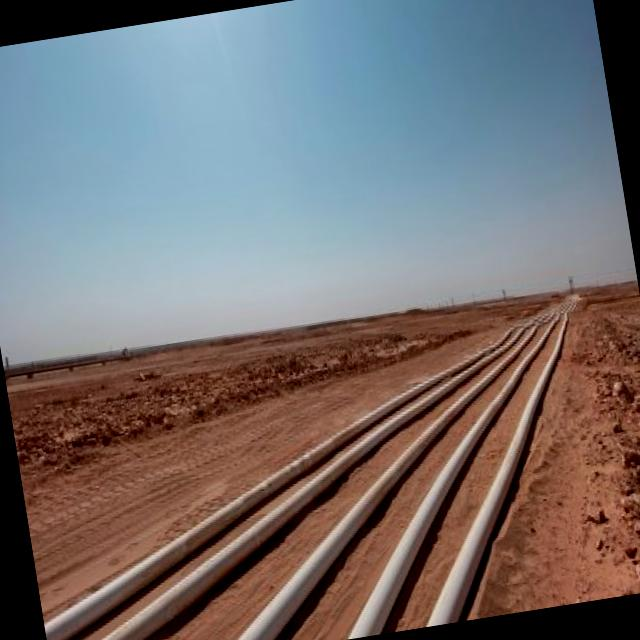gas: (45, 363, 470, 640), (97, 383, 456, 640), (349, 350, 535, 639), (237, 403, 457, 640), (428, 315, 567, 627)
